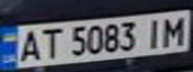0: (84, 22, 106, 55)
3: (118, 18, 142, 52)
5: (66, 23, 90, 57)
8: (103, 20, 124, 54)
A: (12, 27, 45, 63)
I: (139, 16, 169, 48)
M: (157, 12, 193, 47)
T: (36, 25, 66, 61)
